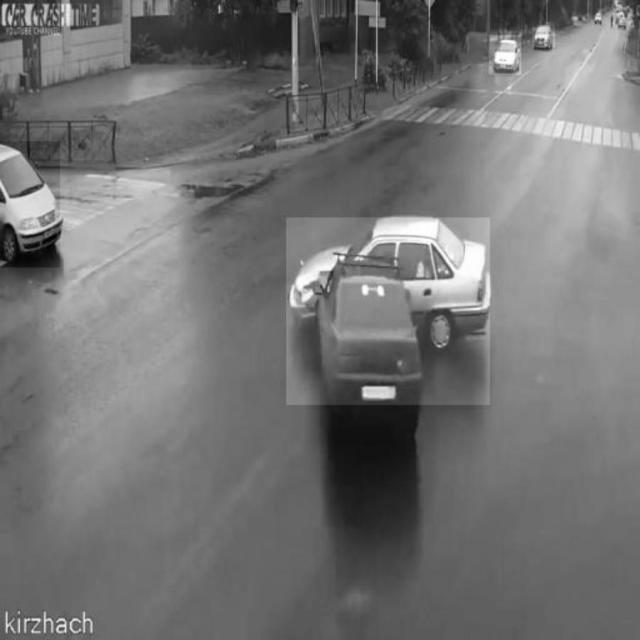accident: (287, 218, 491, 405)
vehicle: (0, 141, 60, 267), (489, 35, 521, 75), (533, 27, 555, 47)
